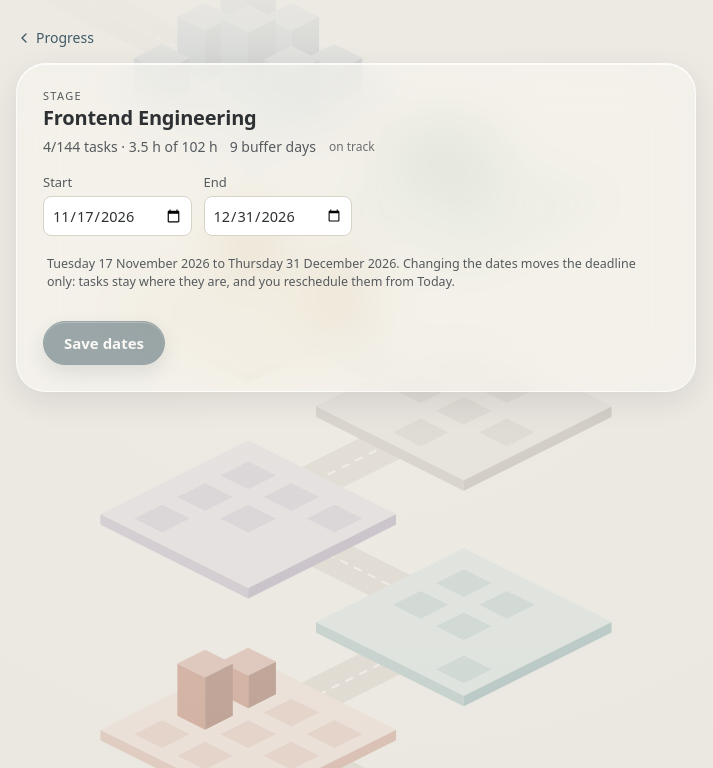
stage dates › won't save an end before the start
The width and height of the screenshot is (713, 768).
In the date field labelled "Start": (117, 216) x1=43 y1=196 x2=192 y2=236, type "2027-02-01"
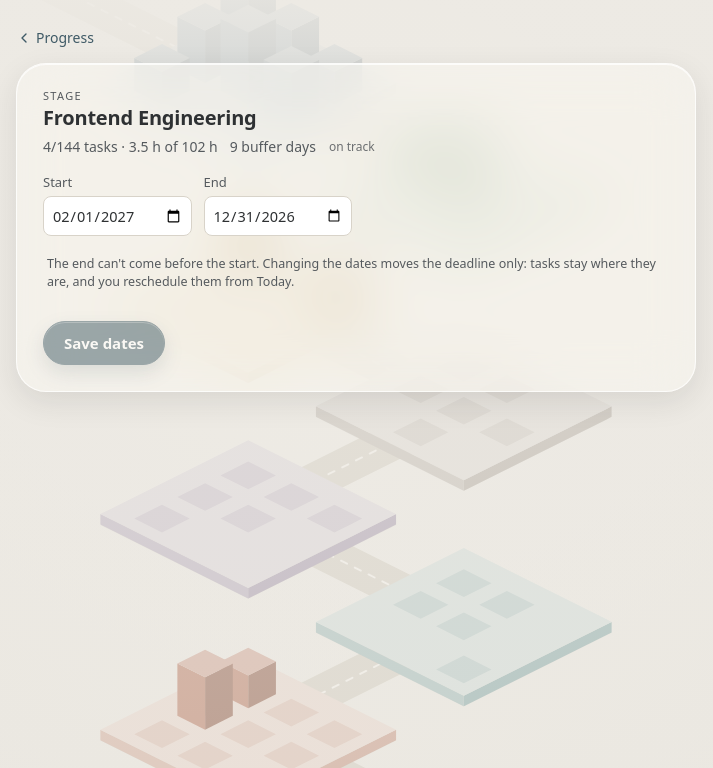
Check: the button "Save dates" is disabled, box x1=43 y1=321 x2=165 y2=365
Check: the text "The end can't come before the start" is shown, box x1=47 y1=255 x2=259 y2=272
